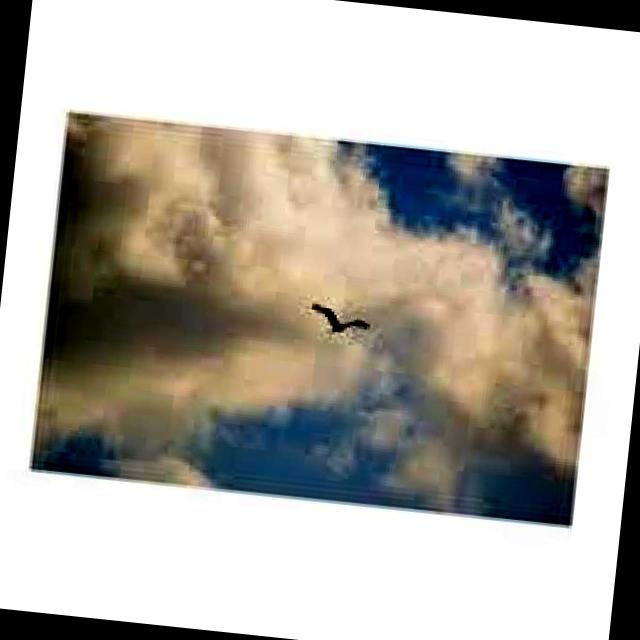bird: (308, 295, 375, 341)
